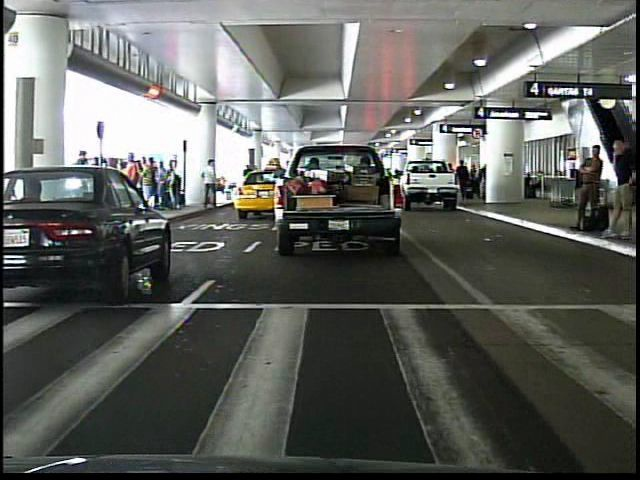person: (567, 133, 604, 241), (603, 136, 635, 240), (120, 152, 146, 222), (201, 160, 223, 213)
